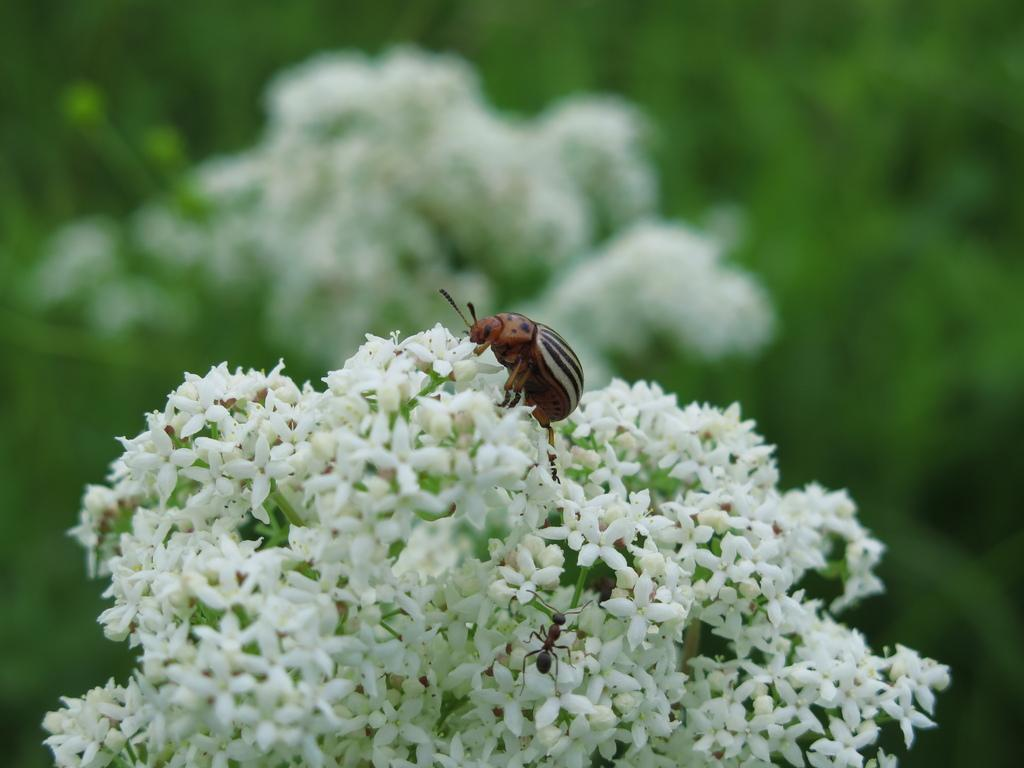potato_beetle: (411, 248, 645, 475)
